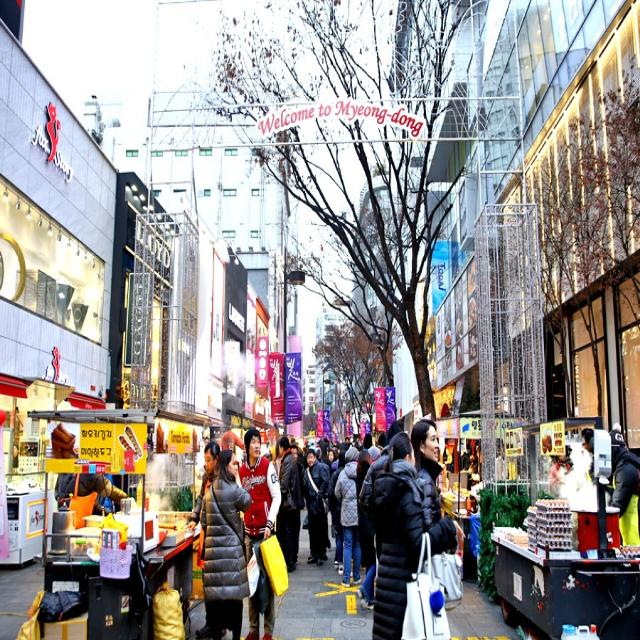body: (368, 428, 468, 639), (409, 417, 466, 613), (198, 447, 252, 640), (236, 424, 283, 640), (184, 439, 221, 640), (356, 419, 405, 564), (584, 427, 640, 549), (332, 442, 363, 588), (57, 473, 129, 531), (275, 435, 303, 575), (300, 447, 332, 567), (302, 444, 331, 560), (326, 448, 348, 578), (466, 438, 516, 488), (356, 449, 374, 572), (289, 443, 306, 564), (95, 464, 128, 518), (53, 451, 79, 512), (310, 433, 350, 469), (439, 434, 466, 481), (548, 454, 572, 500), (580, 424, 594, 482), (608, 419, 631, 451), (8, 442, 23, 471), (290, 431, 304, 456), (352, 427, 364, 450), (375, 431, 386, 453), (202, 434, 210, 446)
